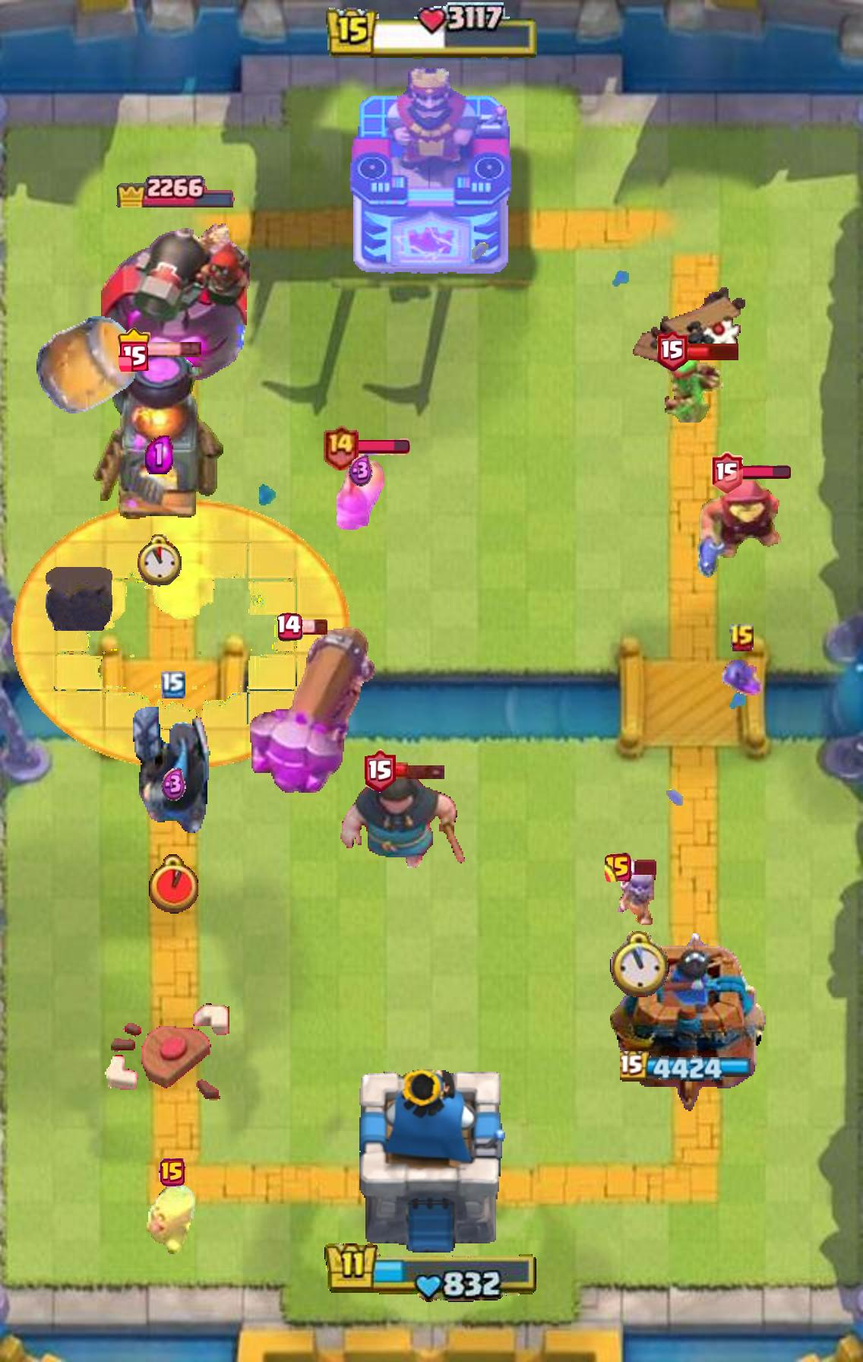bar: (684, 341, 741, 361), (392, 762, 447, 780), (146, 341, 202, 358), (356, 439, 410, 455), (739, 466, 791, 480), (628, 859, 659, 876), (299, 619, 328, 635)
bar-level: (321, 423, 359, 470), (117, 328, 150, 372), (364, 749, 396, 793), (711, 452, 743, 494), (656, 331, 688, 371), (729, 623, 756, 654), (605, 853, 632, 883), (158, 1158, 185, 1186), (277, 613, 303, 641)
